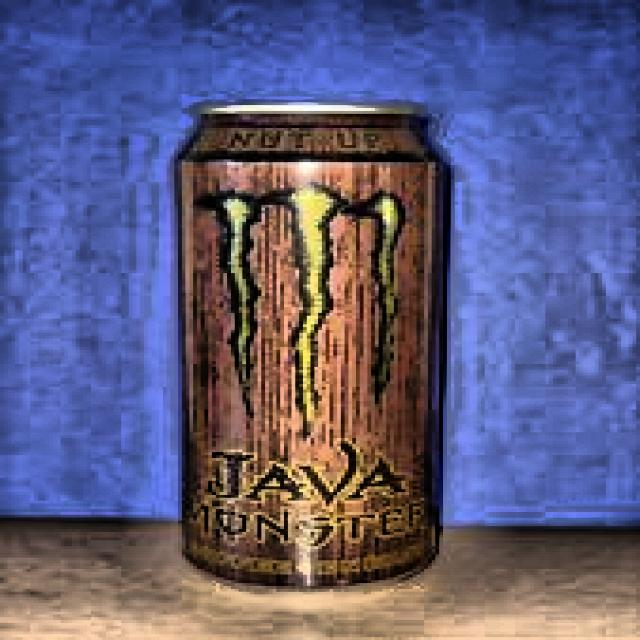Cans: (143, 88, 455, 592)
